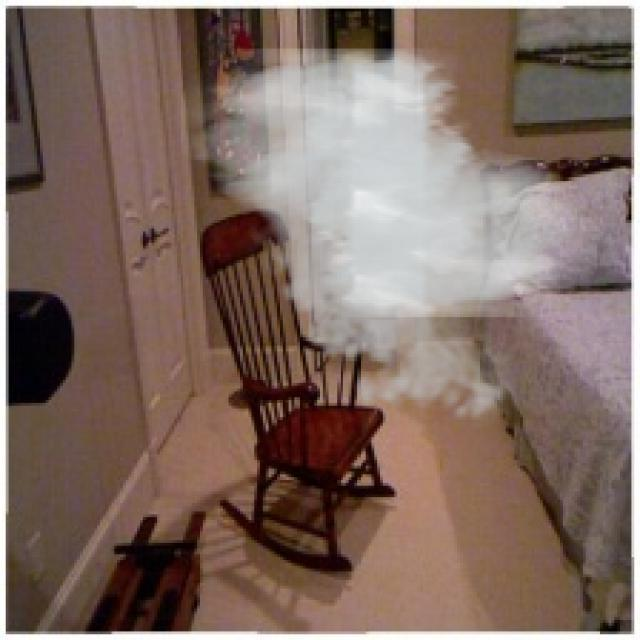Smoke: (180, 49, 597, 432)
